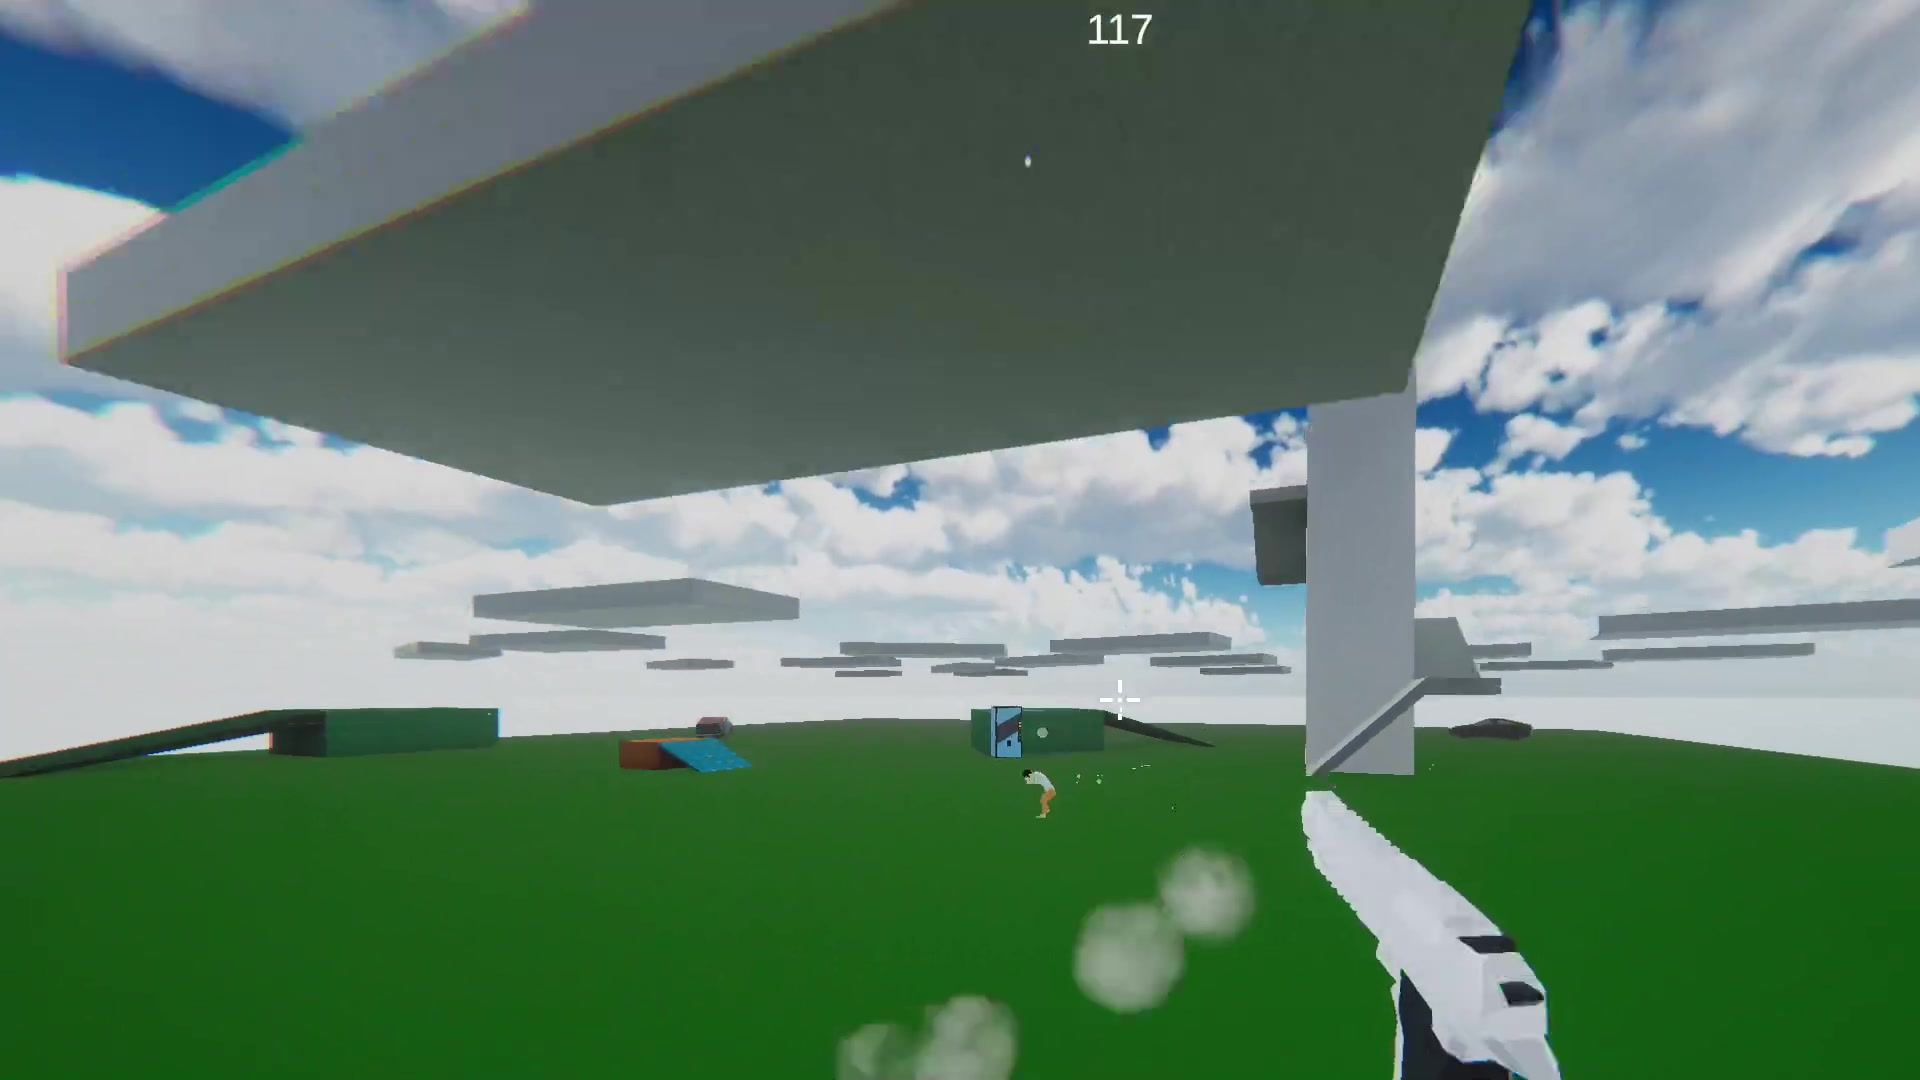human: (1019, 758, 1059, 822)
